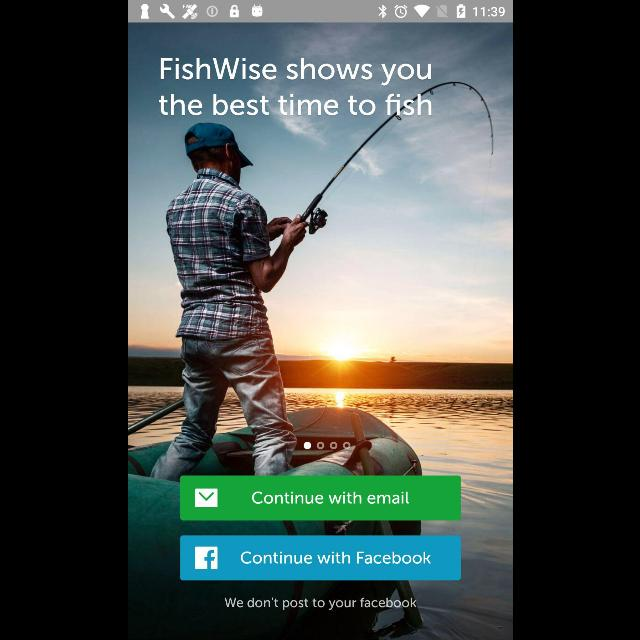backgroundimage: (128, 22, 512, 640)
pageindicator: (302, 442, 350, 451)
text: (157, 57, 431, 116), (224, 598, 416, 610)
textbutton: (180, 476, 460, 520), (180, 536, 460, 580)
uppertaskbar: (128, 1, 512, 23)
